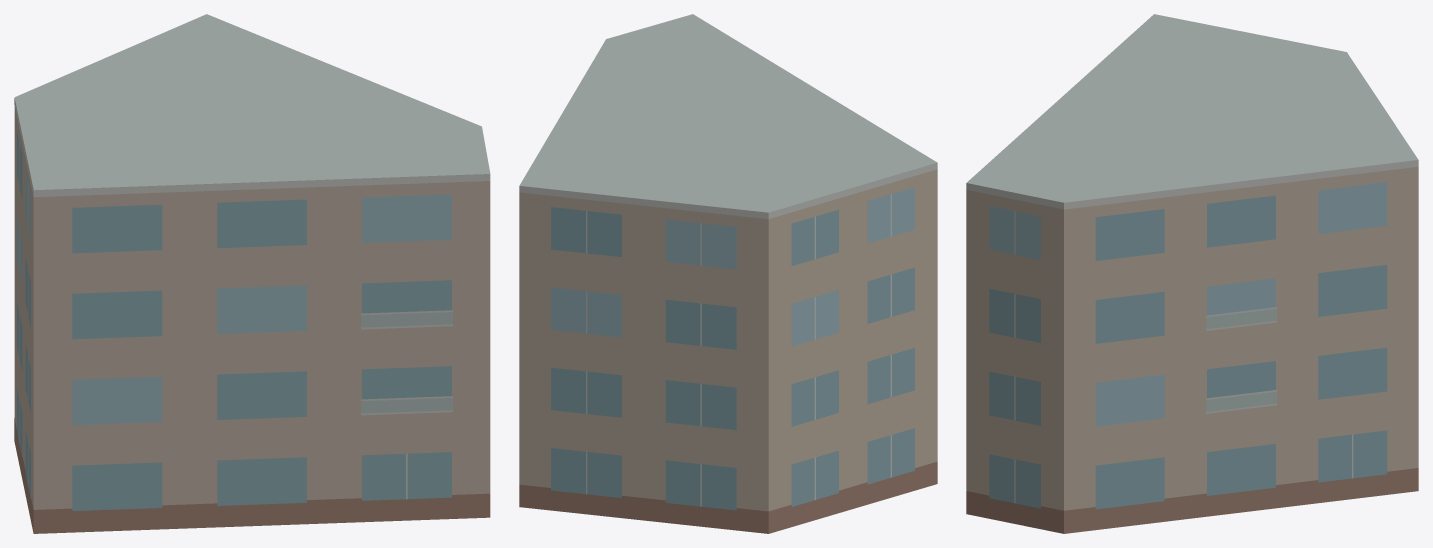
The model's file is survey-upis-32932426.glb.
3 views of the same model, side by side, from view 1: azimuth 30°, elevation 25°; view 2: azimuth 150°, elevation 25°; view 3: azimuth 270°, elevation 25° (orthographic). The views are drawn at different scales.
Visible parts, largest first — view 1: survey-upis-32932426.tmp; view 2: survey-upis-32932426.tmp; view 3: survey-upis-32932426.tmp.
Part boxes in pixels (<box>): survey-upis-32932426.tmp: <box>14,14,490,533</box>; survey-upis-32932426.tmp: <box>519,14,937,533</box>; survey-upis-32932426.tmp: <box>966,14,1418,533</box>.
Size of the model in its own units: 14.56 by 11.9 by 14.74.
